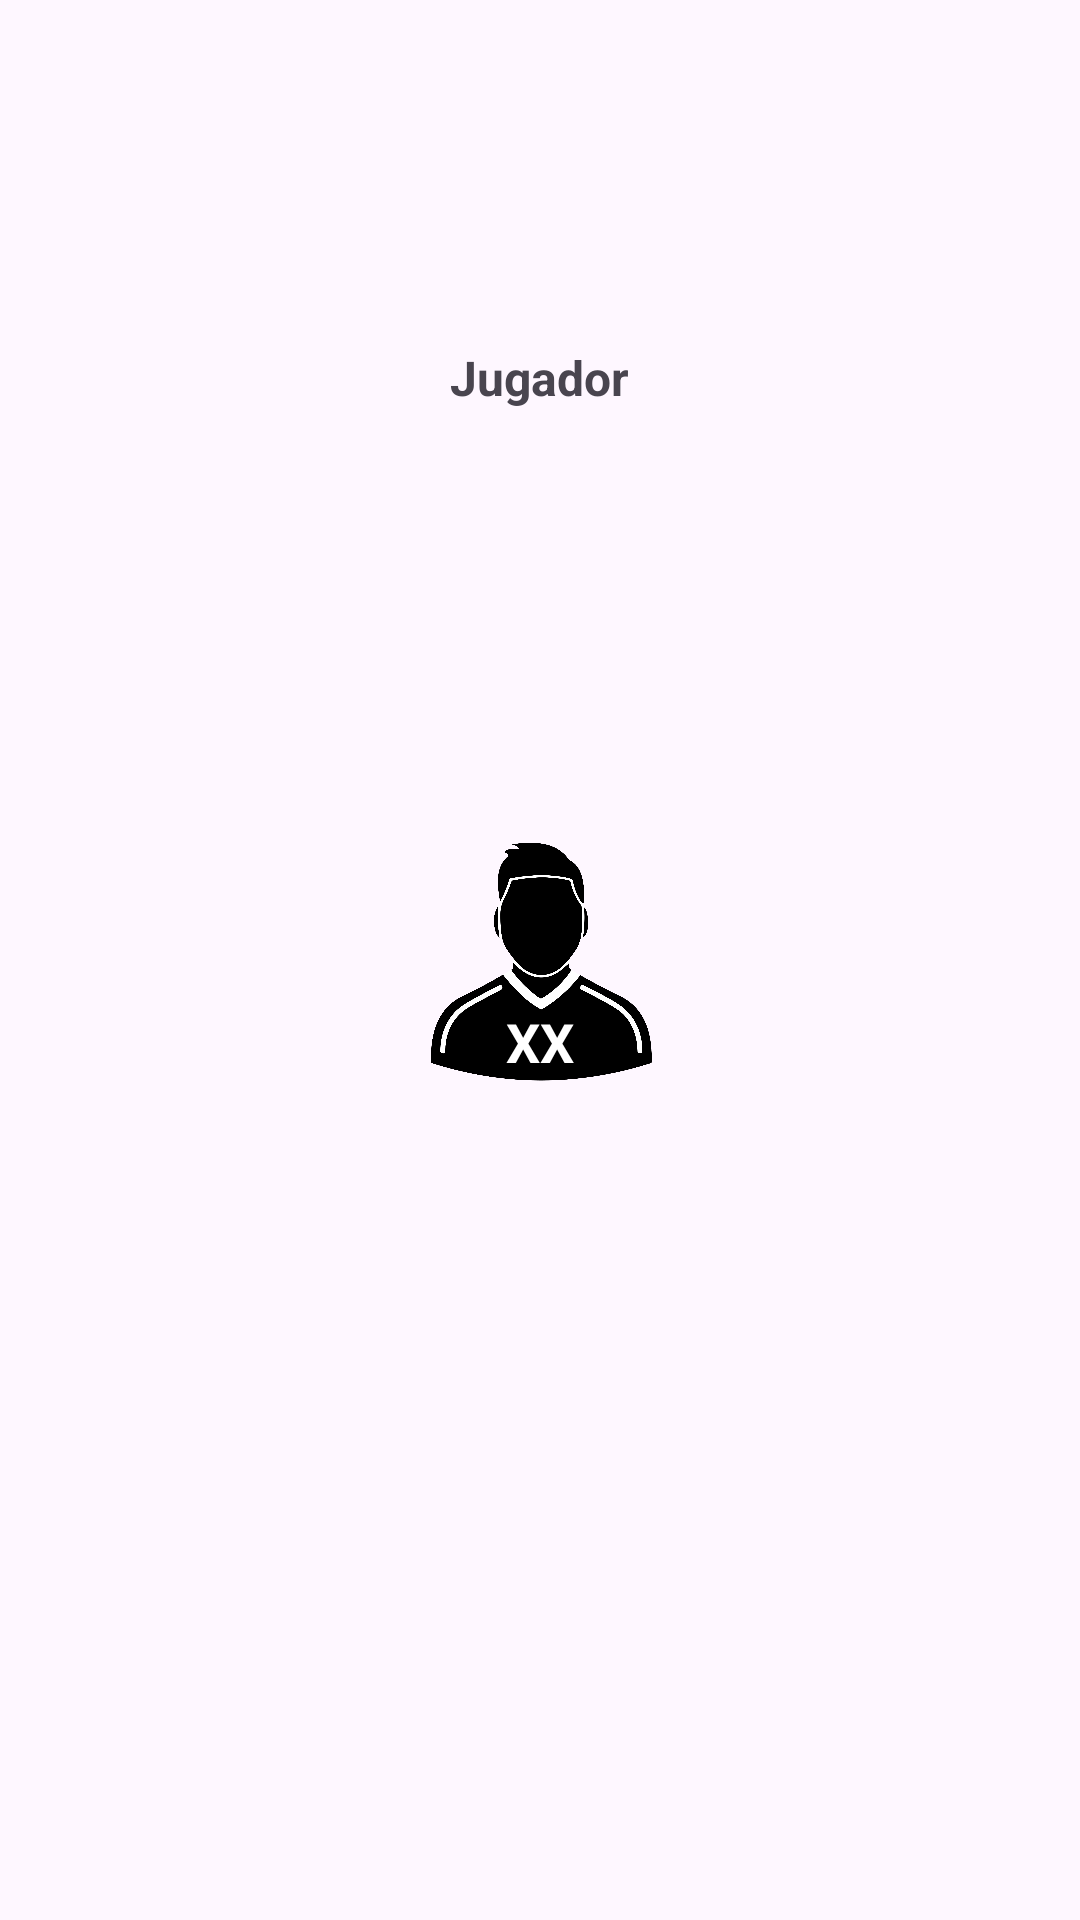

Named icons in this screenshot (1080×1920) and their bounding boxes, {"x1": x1, "y1": y1, "x2": x2, "y2": y2}:
players: {"x1": 431, "y1": 843, "x2": 652, "y2": 1081}
